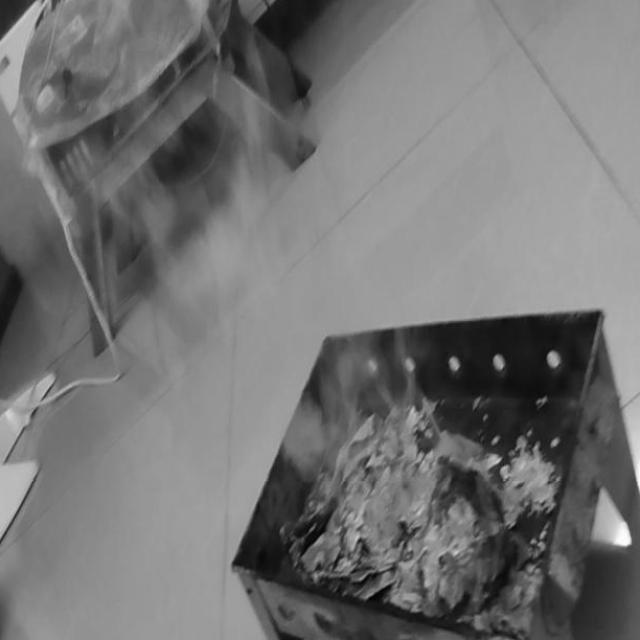fire: (136, 88, 267, 314), (276, 316, 390, 472)
